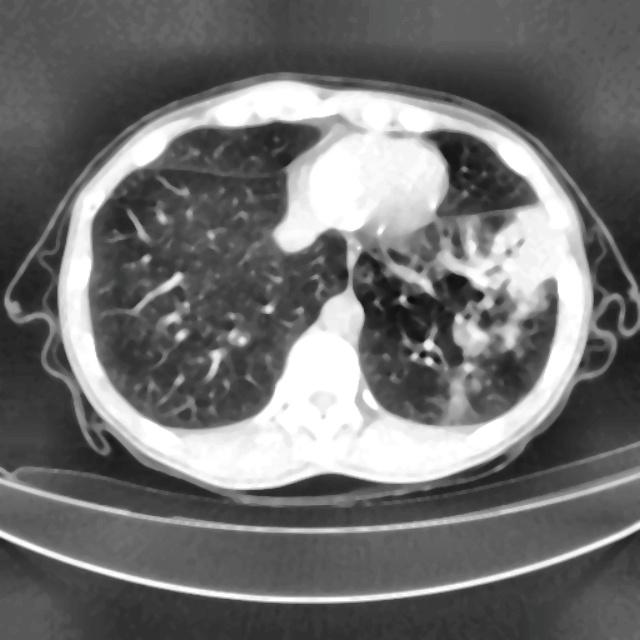covid: (5, 72, 637, 502)
